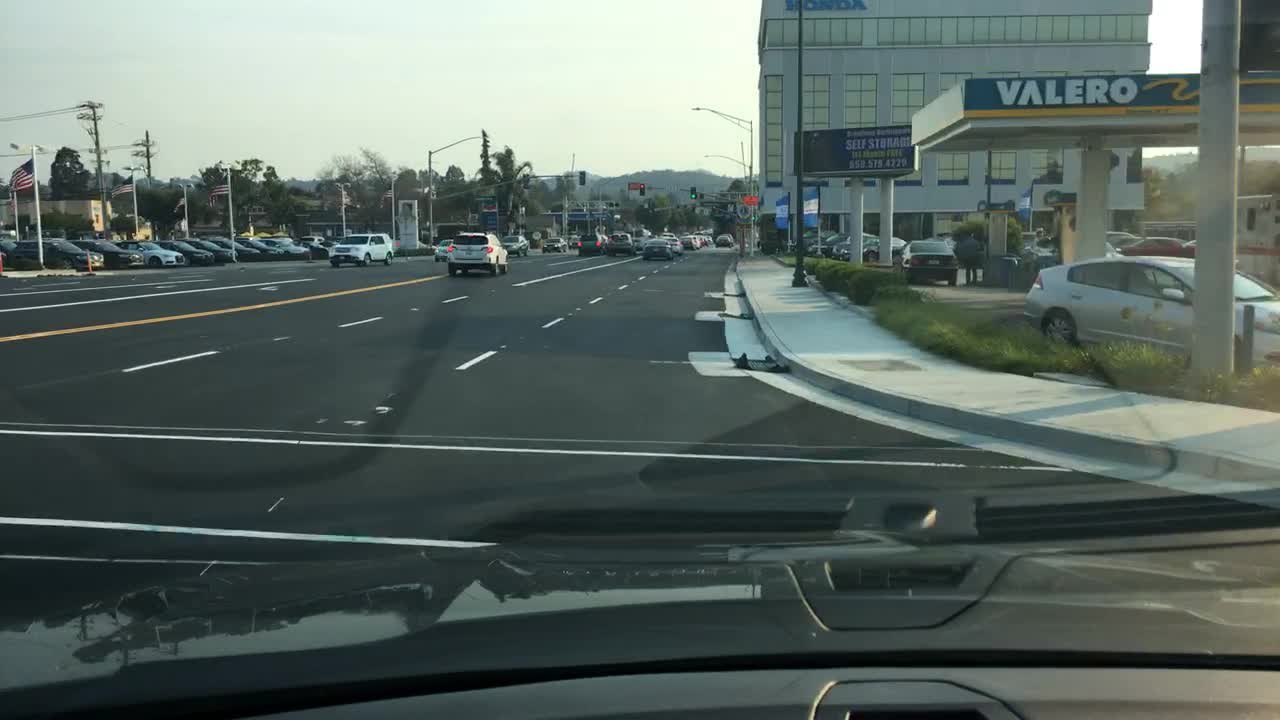car: (1019, 255, 1279, 378), (10, 239, 108, 273), (891, 239, 958, 287), (444, 231, 508, 278), (327, 229, 395, 270), (76, 234, 145, 270), (1113, 233, 1194, 258), (113, 239, 185, 266), (182, 234, 238, 261), (234, 231, 283, 260), (854, 236, 908, 261), (206, 233, 260, 258), (806, 226, 847, 258), (153, 239, 212, 261), (827, 233, 877, 256), (1019, 239, 1059, 265), (265, 233, 309, 256), (573, 228, 607, 253), (639, 238, 675, 261), (606, 229, 636, 256), (501, 231, 530, 256), (801, 224, 833, 246), (297, 234, 336, 251), (0, 234, 17, 268), (1103, 231, 1139, 246), (540, 236, 570, 253), (626, 226, 651, 246), (661, 233, 685, 253), (432, 238, 452, 260), (710, 231, 735, 248), (680, 236, 698, 251), (695, 233, 707, 246)
person: (958, 226, 984, 287)
traffic light: (577, 170, 587, 187), (636, 180, 646, 196), (688, 185, 698, 199)
traffic sign: (741, 192, 757, 206)
